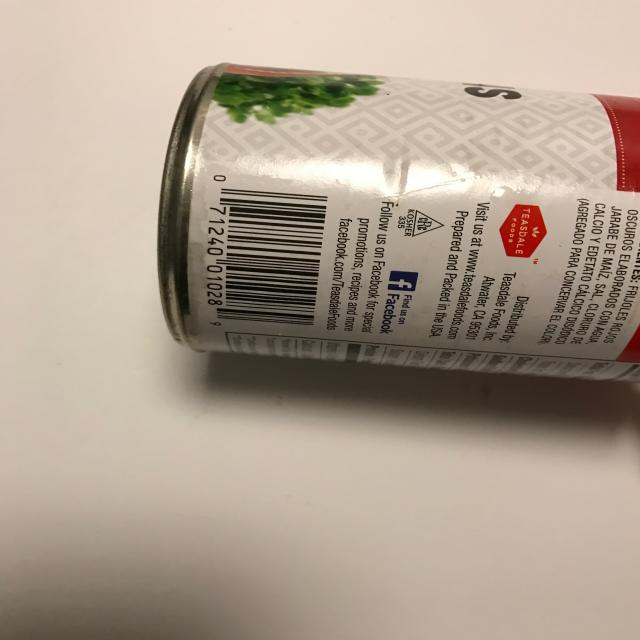metal: (156, 61, 640, 384)
